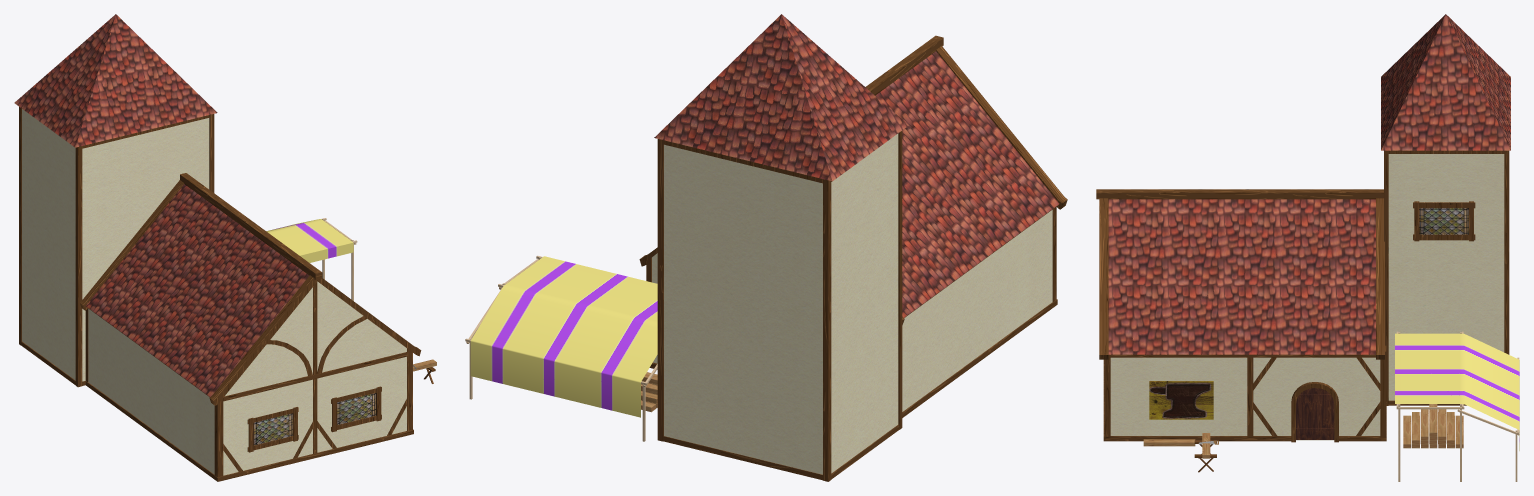
File: Serralheria.fbx
3 views of the same model, side by side, from view 1: azimuth 30°, elevation 25°; view 2: azimuth 150°, elevation 25°; view 3: azimuth 270°, elevation 25° (orthographic). The views are drawn at different scales.
Visible parts, largest first — view 1: House 4.001, Telhado House 12, House 4.015, Barraca Serralheria, House 4.016; view 2: House 4.001, Telhado House 12, Barraca Serralheria, House 4.015; view 3: Telhado House 12, House 4.001, House 4.015, Barraca Serralheria, House 4.007, Madeiras Serralheria, Cube.040, House 4.016.
Part boxes in pixels (x1=…): House 4.001: x1=22, y1=109, x2=406, y2=475; Telhado House 12: x1=14, y1=14, x2=309, y2=396; House 4.015: x1=19, y1=107, x2=421, y2=481; Barraca Serralheria: x1=266, y1=218, x2=357, y2=300; House 4.016: x1=253, y1=393, x2=376, y2=445; House 4.001: x1=652, y1=133, x2=1052, y2=474; Telhado House 12: x1=654, y1=14, x2=1059, y2=317; Barraca Serralheria: x1=465, y1=255, x2=657, y2=441; House 4.015: x1=639, y1=35, x2=1067, y2=481; Telhado House 12: x1=1108, y1=14, x2=1510, y2=354; House 4.001: x1=1110, y1=154, x2=1504, y2=440; House 4.015: x1=1096, y1=150, x2=1509, y2=442; Barraca Serralheria: x1=1395, y1=331, x2=1519, y2=481; House 4.007: x1=1149, y1=381, x2=1213, y2=419; Madeiras Serralheria: x1=1403, y1=404, x2=1463, y2=448; Cube.040: x1=1296, y1=388, x2=1334, y2=439; House 4.016: x1=1419, y1=208, x2=1468, y2=234.
Bounding box in the file's own units: 2197 × 2436 × 2622.
